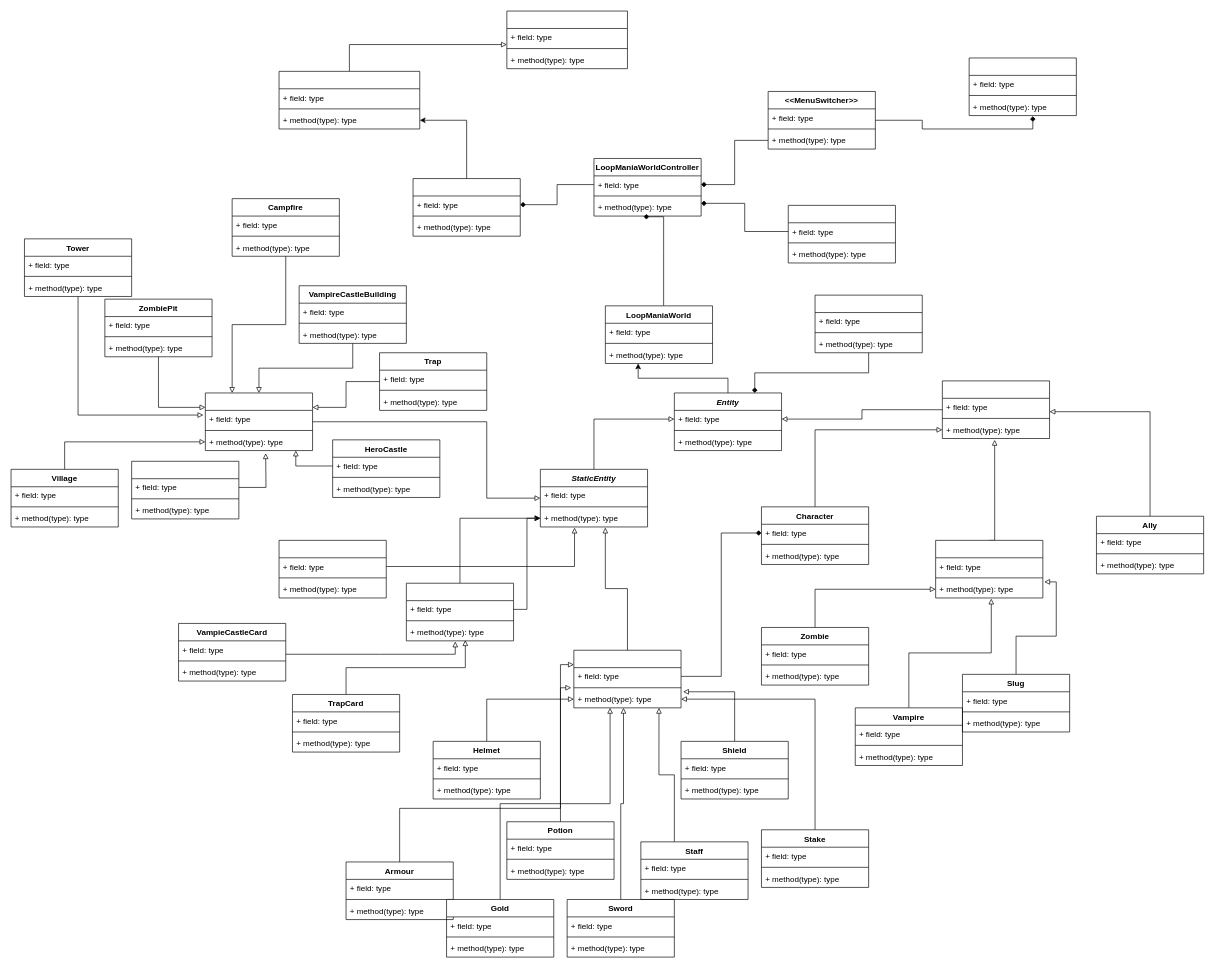
Some shapes in this 1215 by 968 pixel diagram are drawn without their labels. The shapes that lost their labels are listed below. From the top down, each one's box as (x1, y1, x2, y2) in pixels, then its label:
(506, 10, 627, 69): LoopManiaWorldLoader
(278, 71, 420, 129): LoopManiaWorldControllerLoader
(968, 57, 1076, 116): MainMenuController
(412, 178, 520, 236): LoopManiaApplication
(788, 205, 895, 263): DragIcon
(814, 294, 922, 353): PathPosition
(205, 392, 313, 451): Building
(942, 380, 1050, 439): MovingEntity
(131, 461, 239, 519): Barracks
(278, 540, 386, 598): PathTile
(935, 540, 1043, 598): BasicEnemy
(406, 583, 514, 641): Card
(573, 650, 681, 708): Item
